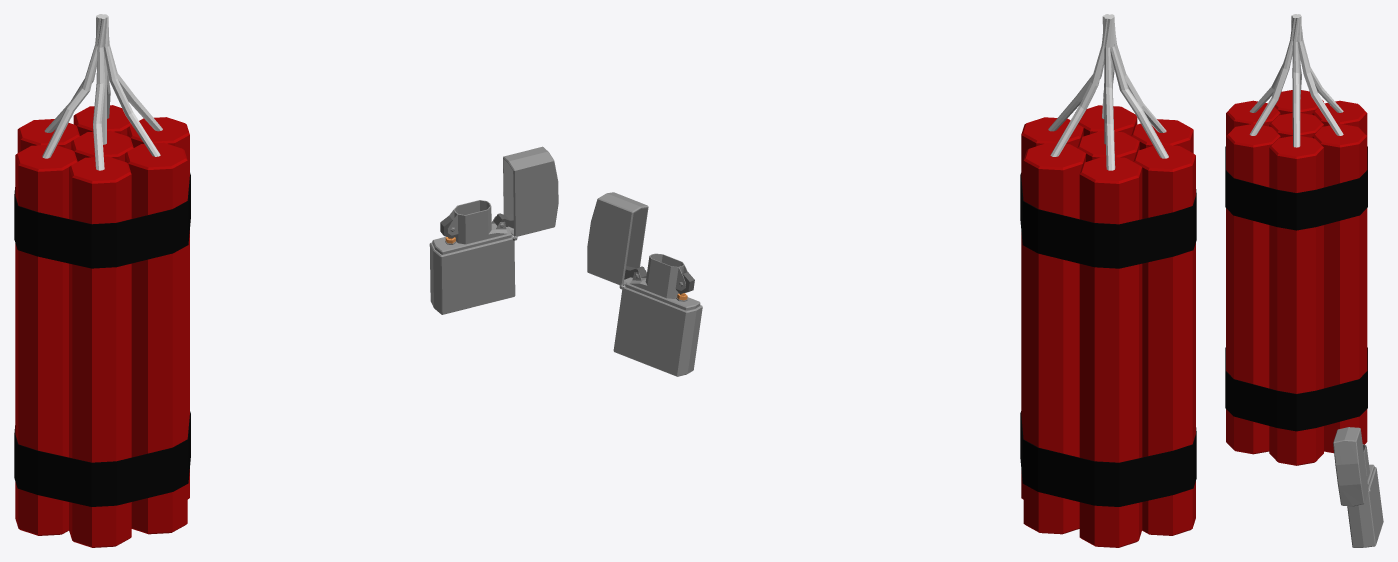
Rendered from Resources__items__purchasable__Dynamite.glb.
3 views of the same model, side by side, from view 1: azimuth 30°, elevation 25°; view 2: azimuth 150°, elevation 25°; view 3: azimuth 270°, elevation 25° (orthographic). The views are drawn at different scales.
Visible parts, largest first — view 1: Dynamite, Lighter; view 2: Dynamite, Lighter; view 3: Dynamite, Lighter.
Part boxes in pixels (x1,y1,x2,y2): Dynamite: (14,14,190,547); Lighter: (429,146,558,314); Dynamite: (1020,14,1196,547); Lighter: (587,192,702,376); Dynamite: (1225,14,1367,465); Lighter: (1333,427,1383,547).
Bounding box in the file's own units: 0.3242 × 0.2691 × 0.0928.
1 material, 1 textured.
